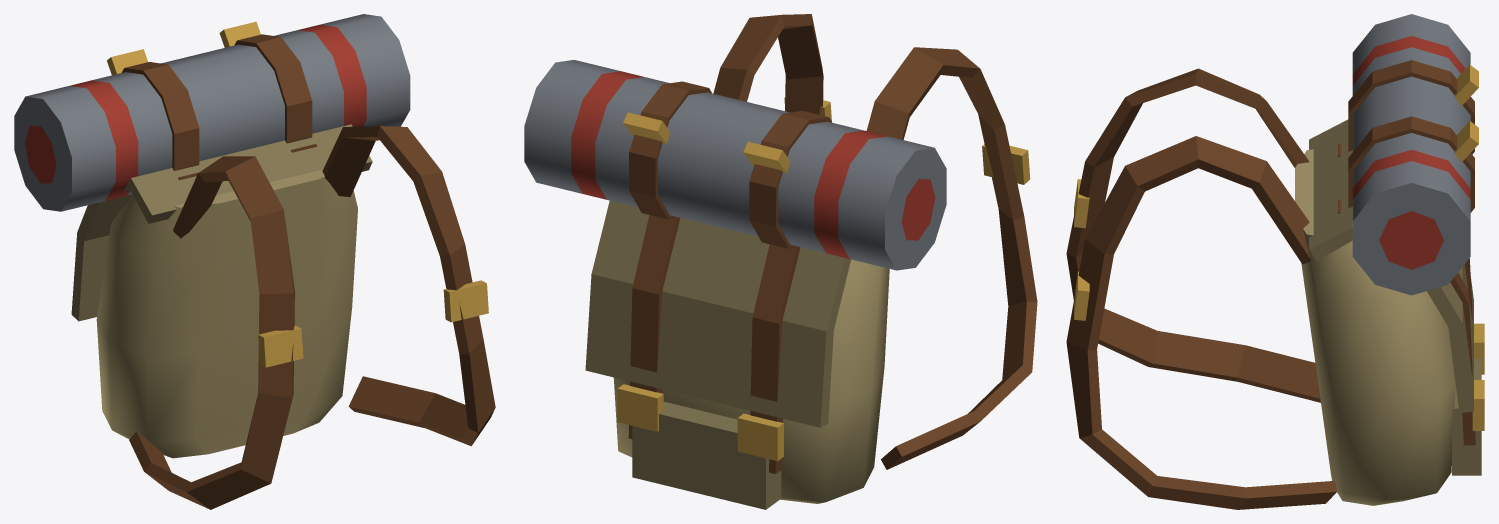
Rendered from backpack.glb.
The picture shows the model from 3 angles, left to right: view 1: azimuth 30°, elevation 25°; view 2: azimuth 150°, elevation 25°; view 3: azimuth 270°, elevation 25°; orthographic projection. The views are drawn at different scales.
Visible parts, largest first — view 1: backpack; view 2: backpack; view 3: backpack.
Boxes of the visible parts, x1,y1,x2,y2 form: backpack: [14, 14, 495, 509]; backpack: [524, 14, 1037, 509]; backpack: [1066, 14, 1484, 509].
Bounding box in the file's own units: 0.274 × 0.276 × 0.2825.
